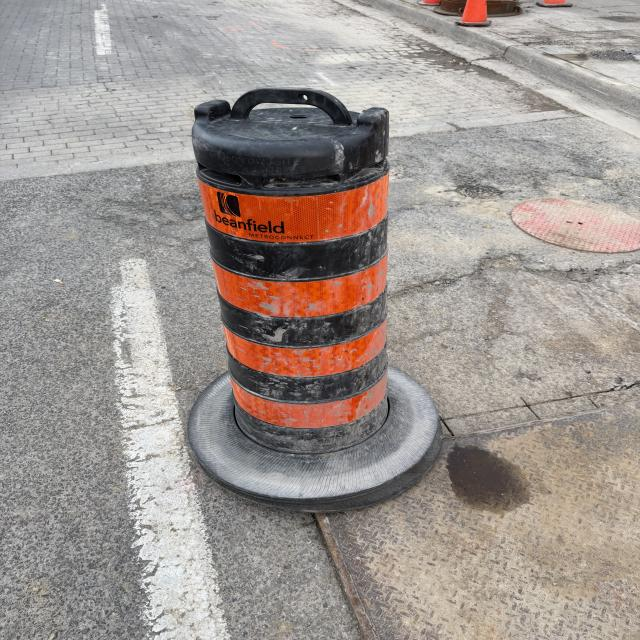Teraffic Barrel: (188, 88, 440, 511), (456, 0, 491, 27)
